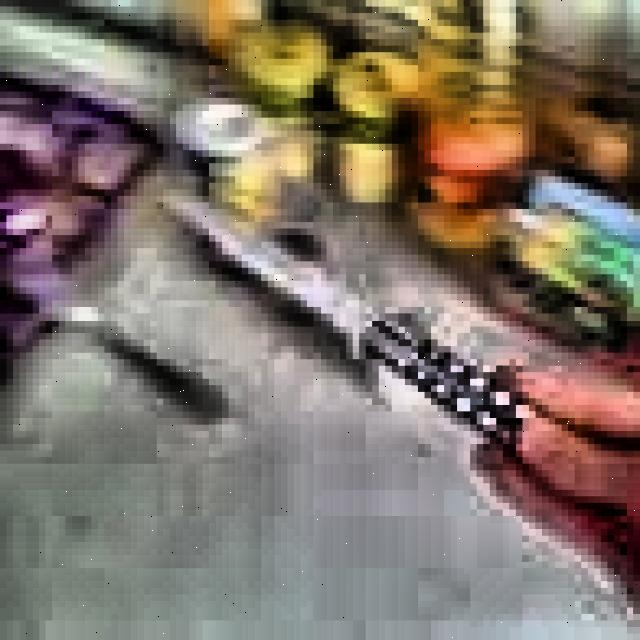knife: (166, 195, 534, 456)
